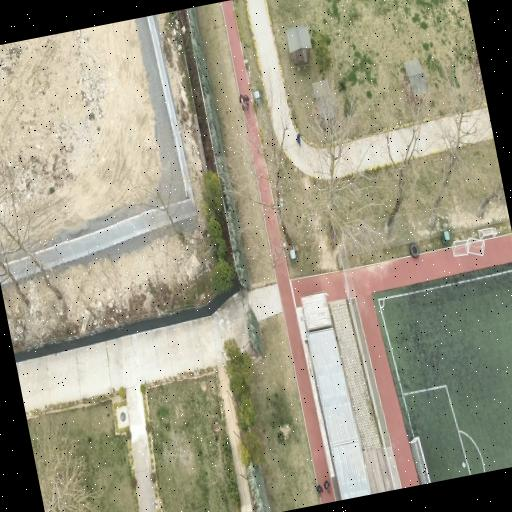person: (244, 95, 250, 111), (324, 481, 330, 494), (317, 484, 323, 497), (240, 95, 244, 111), (297, 133, 301, 146)
